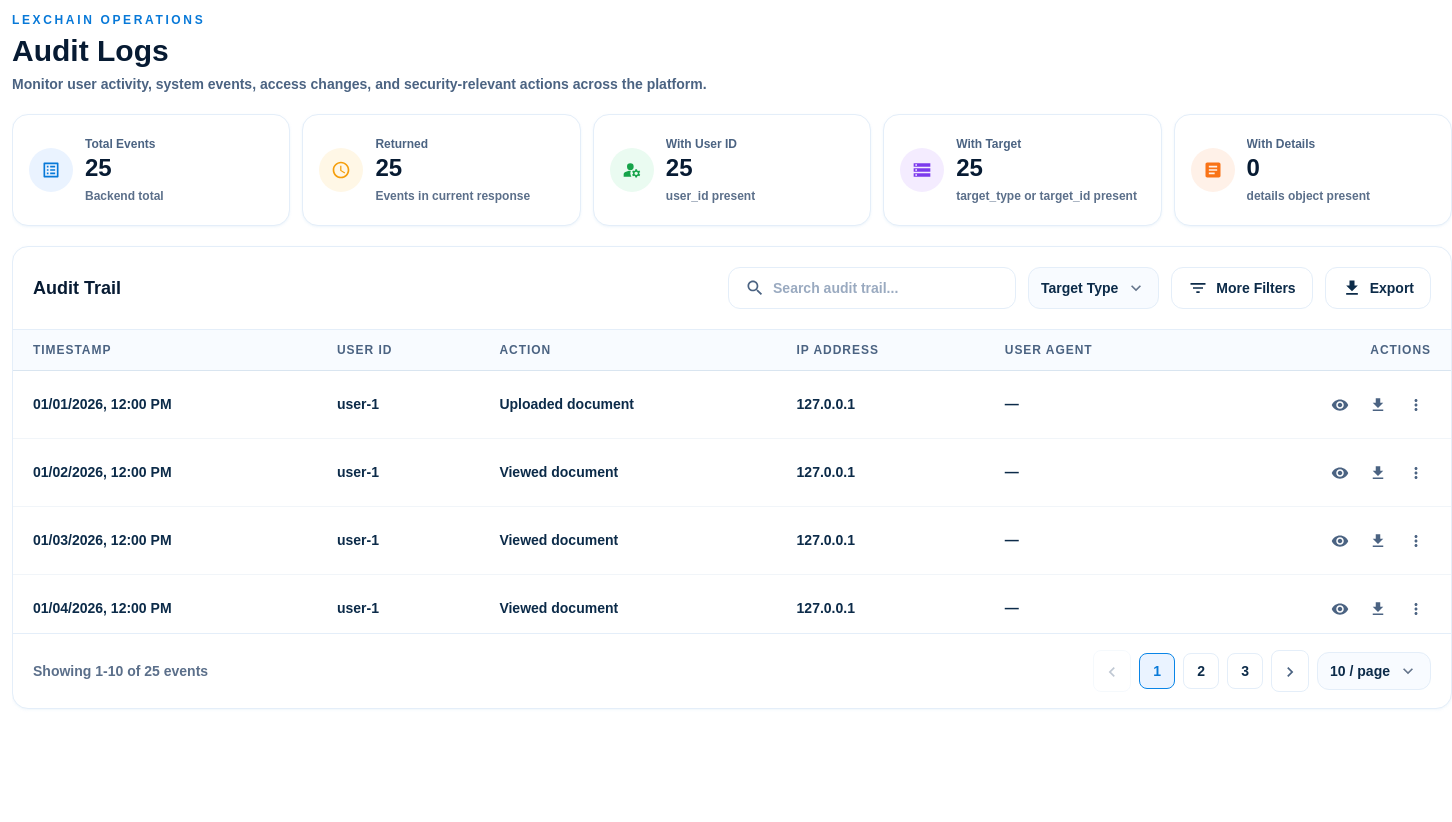
Scenario: reports clipboard failures without an unhandled rejection
Click the button named "More actions for audit event event-0": (1416, 404) [1401,388,1431,420]
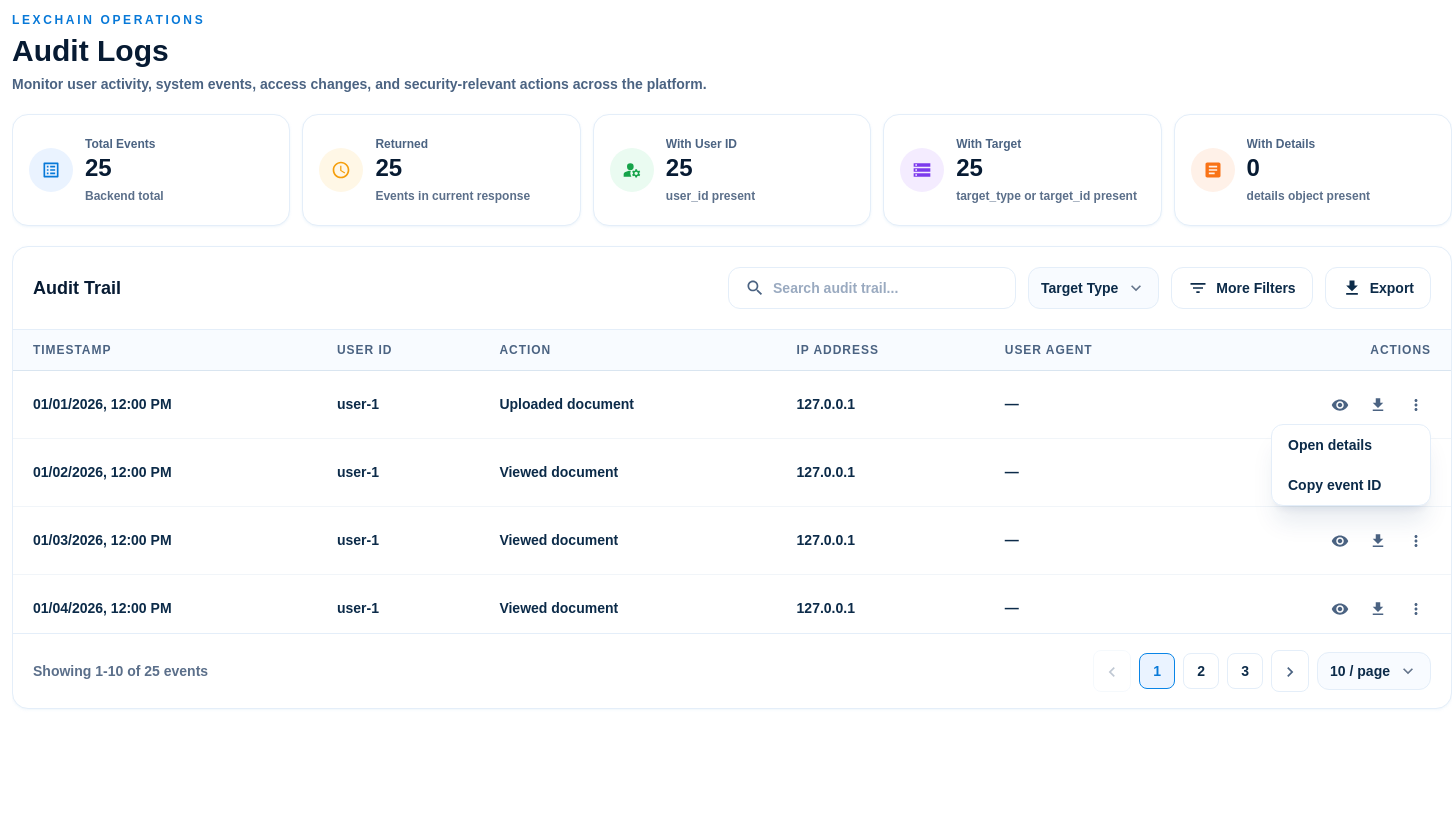
Click the button "Copy event ID": (1351, 485) [1272,465,1430,505]
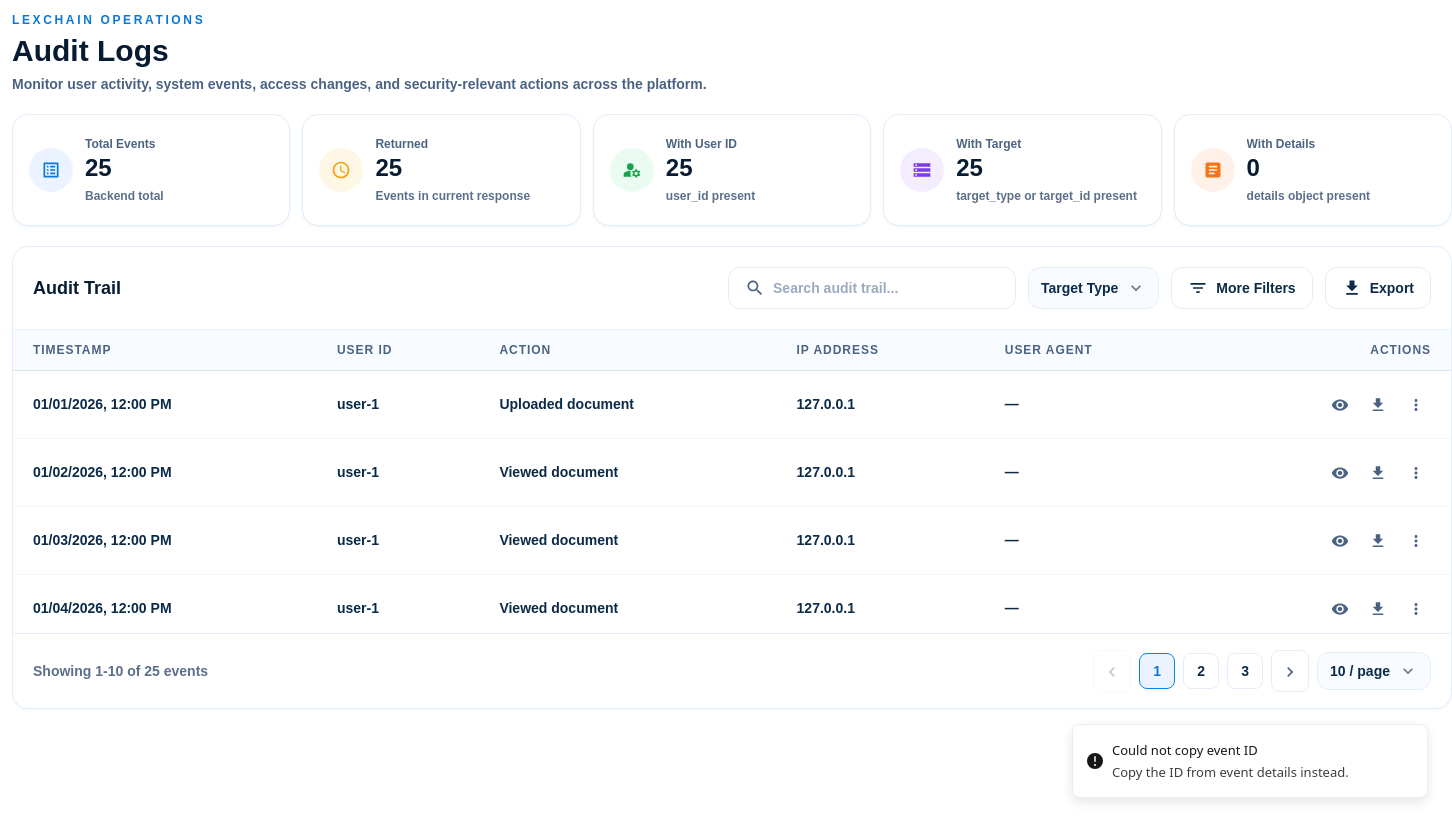
Expected: the text "Could not copy event ID" is shown, [1112,741,1258,759]
